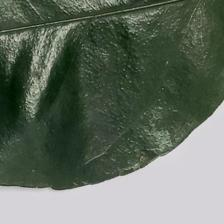healthy: (0, 0, 223, 165)
